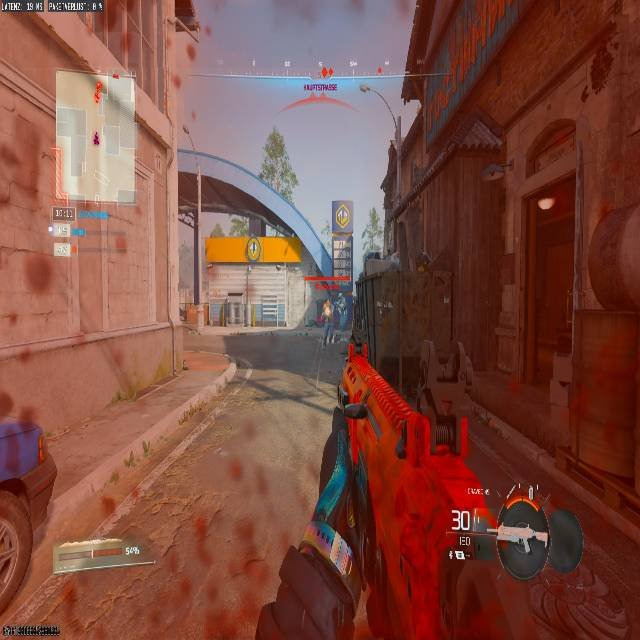player: (319, 290, 350, 338)
